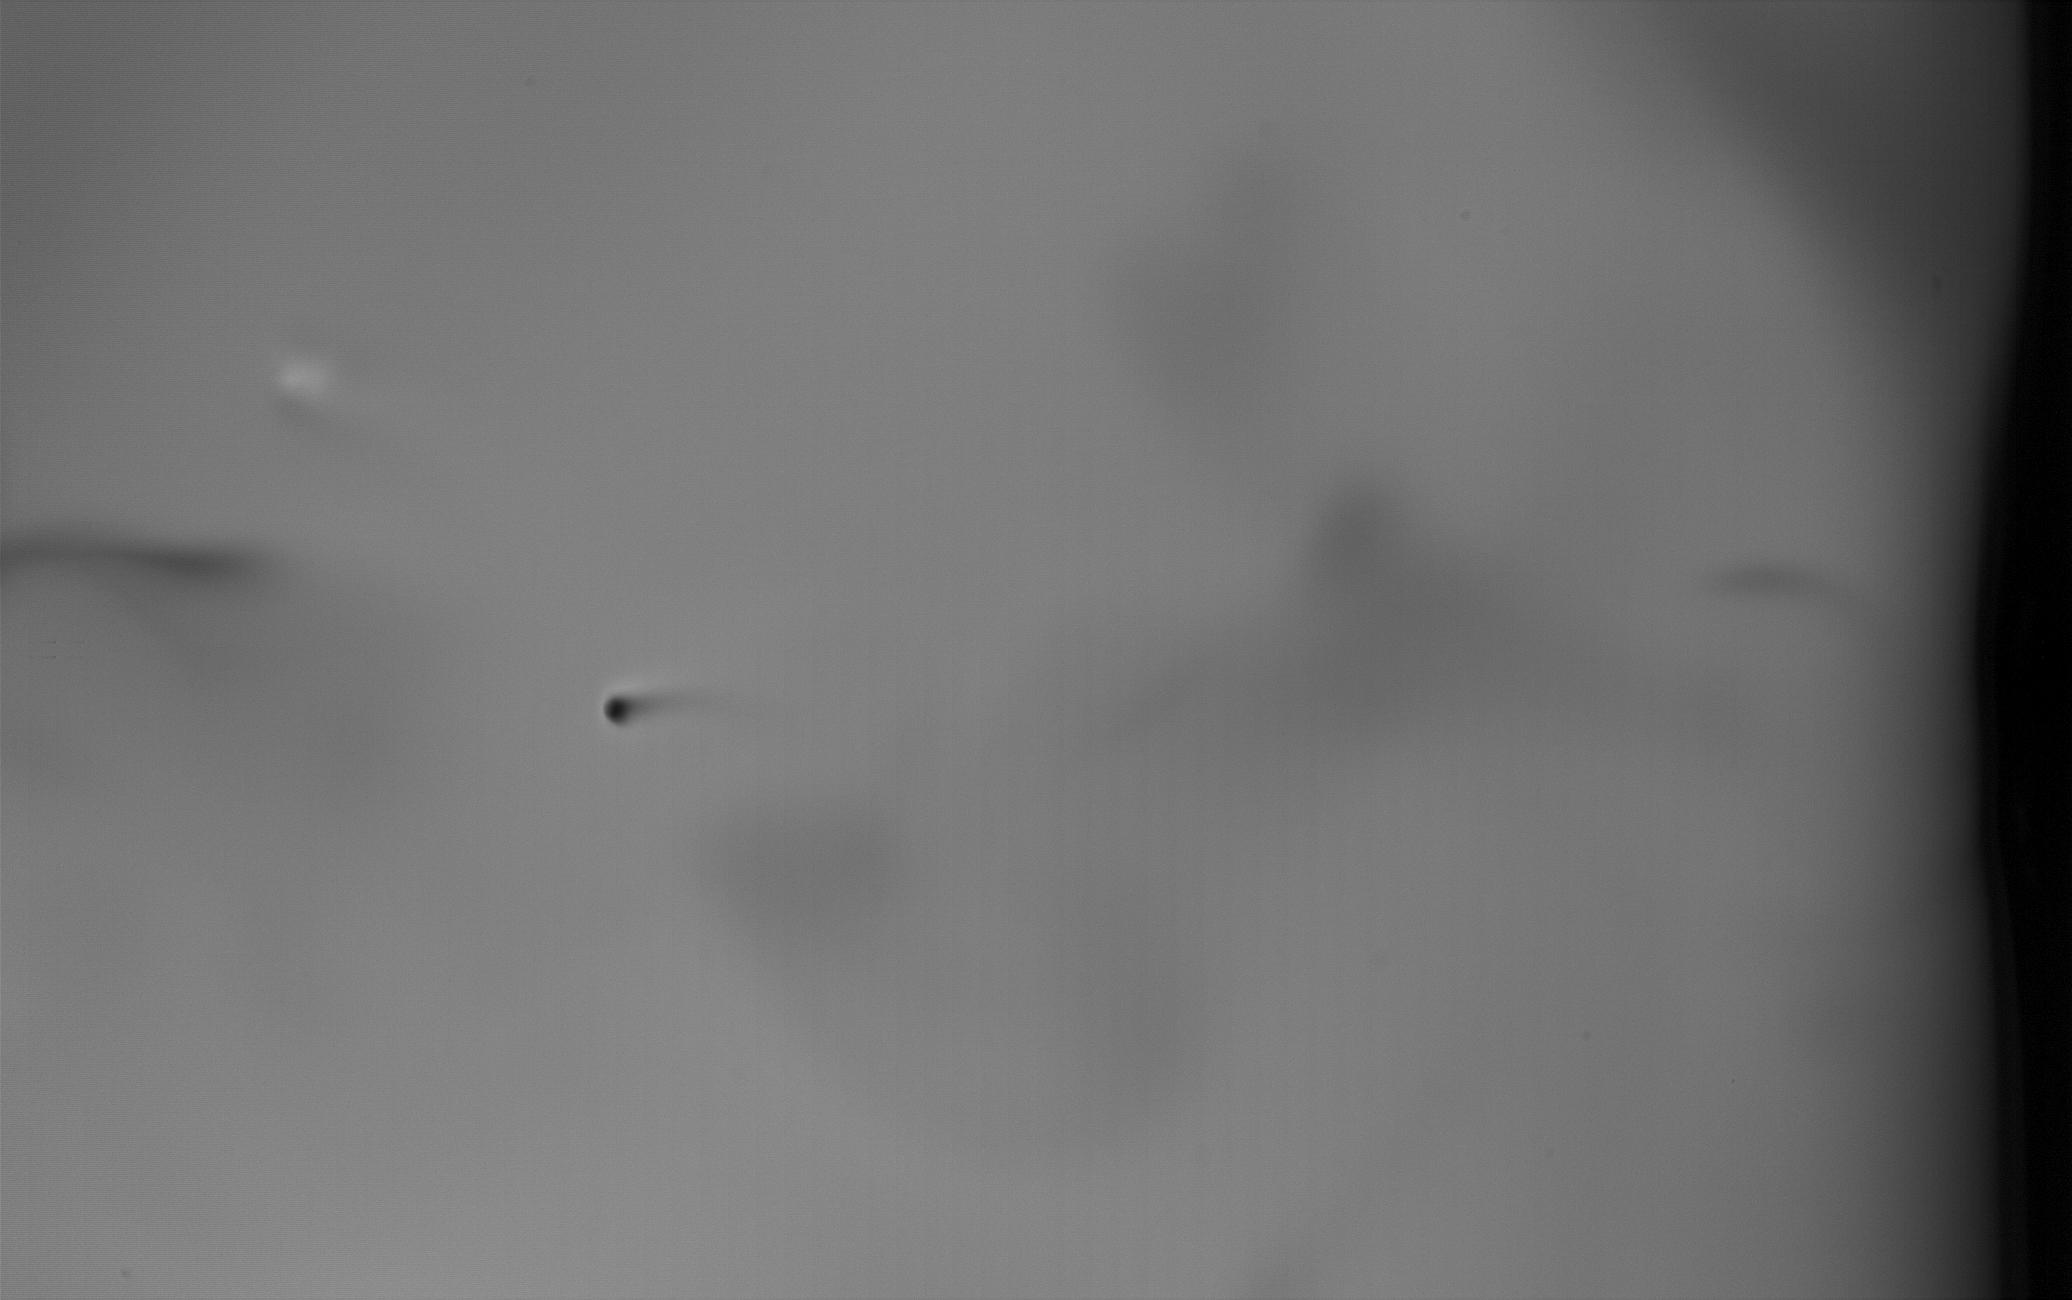ClassicalEvaporation: (600, 690, 635, 726)
